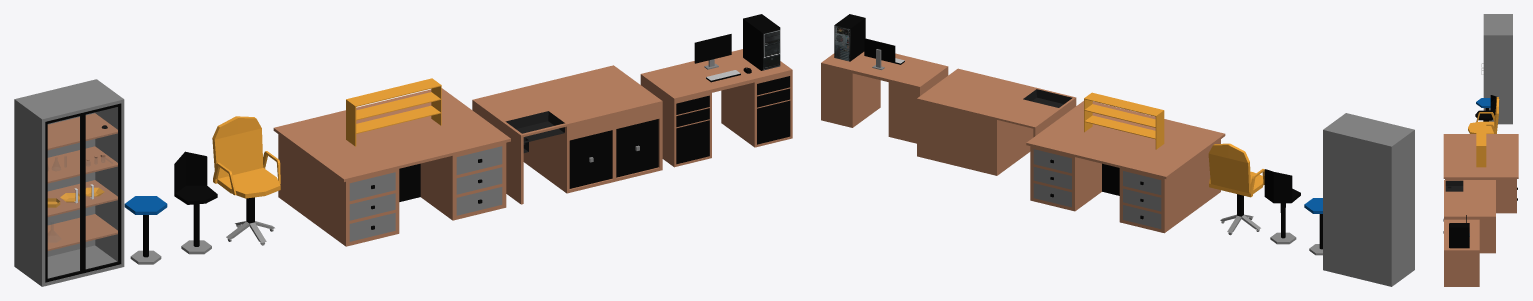
File: Low Poly Lab Models.fbx
3 views of the same model, side by side, from view 1: azimuth 30°, elevation 25°; view 2: azimuth 150°, elevation 25°; view 3: azimuth 270°, elevation 25° (orthographic). The views are drawn at different scales.
Visible parts, largest first — view 1: Table, Almari, Table2, Table3, Chair, Object Stand, Stool2, CPU, Stool, Display; view 2: Table, Almari, Table2, Table3, Chair, Object Stand, Stool2, CPU, Display, Stool; view 3: Table, Almari, Table2, Table3, CPU, Object Stand, Chair, Stool2, Stool.
Boxes of the visible parts, x1,y1,x2,y2 form: Table: [273, 88, 510, 246]; Almari: [14, 79, 124, 286]; Table2: [472, 65, 662, 204]; Table3: [640, 49, 792, 167]; Chair: [212, 116, 280, 245]; Object Stand: [346, 78, 441, 146]; Stool2: [174, 151, 217, 254]; CPU: [743, 14, 780, 70]; Stool: [124, 196, 167, 264]; Display: [694, 34, 731, 69]; Table: [1026, 101, 1225, 233]; Almari: [1323, 113, 1414, 286]; Table2: [917, 68, 1076, 175]; Table3: [821, 52, 948, 143]; Chair: [1208, 143, 1264, 235]; Object Stand: [1084, 92, 1164, 149]; Stool2: [1264, 169, 1300, 244]; CPU: [834, 14, 865, 61]; Display: [864, 38, 895, 69]; Stool: [1304, 198, 1322, 255]; Table: [1443, 134, 1518, 213]; Almari: [1481, 14, 1512, 124]; Table2: [1443, 180, 1495, 253]; Table3: [1444, 219, 1479, 286]; CPU: [1449, 223, 1469, 248]; Object Stand: [1476, 123, 1486, 167]; Chair: [1468, 97, 1499, 133]; Stool2: [1475, 95, 1496, 121]; Stool: [1476, 98, 1490, 121].
Bounding box in the file's own units: 890 × 201 × 153.
